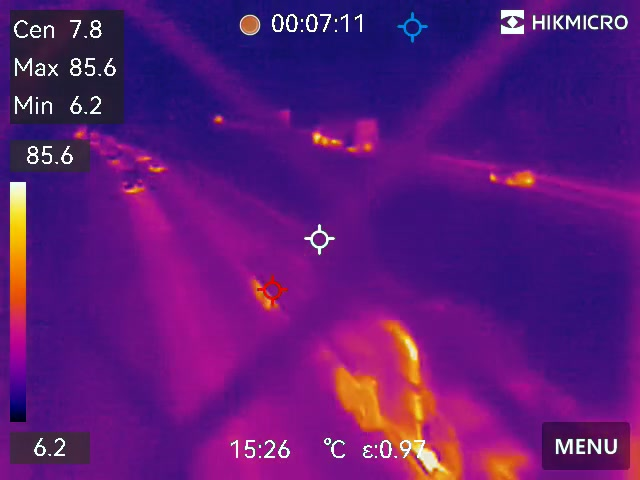heavyTruck: (342, 318, 540, 477), (314, 114, 381, 151)
vehicle: (487, 163, 536, 188), (115, 170, 150, 195)
